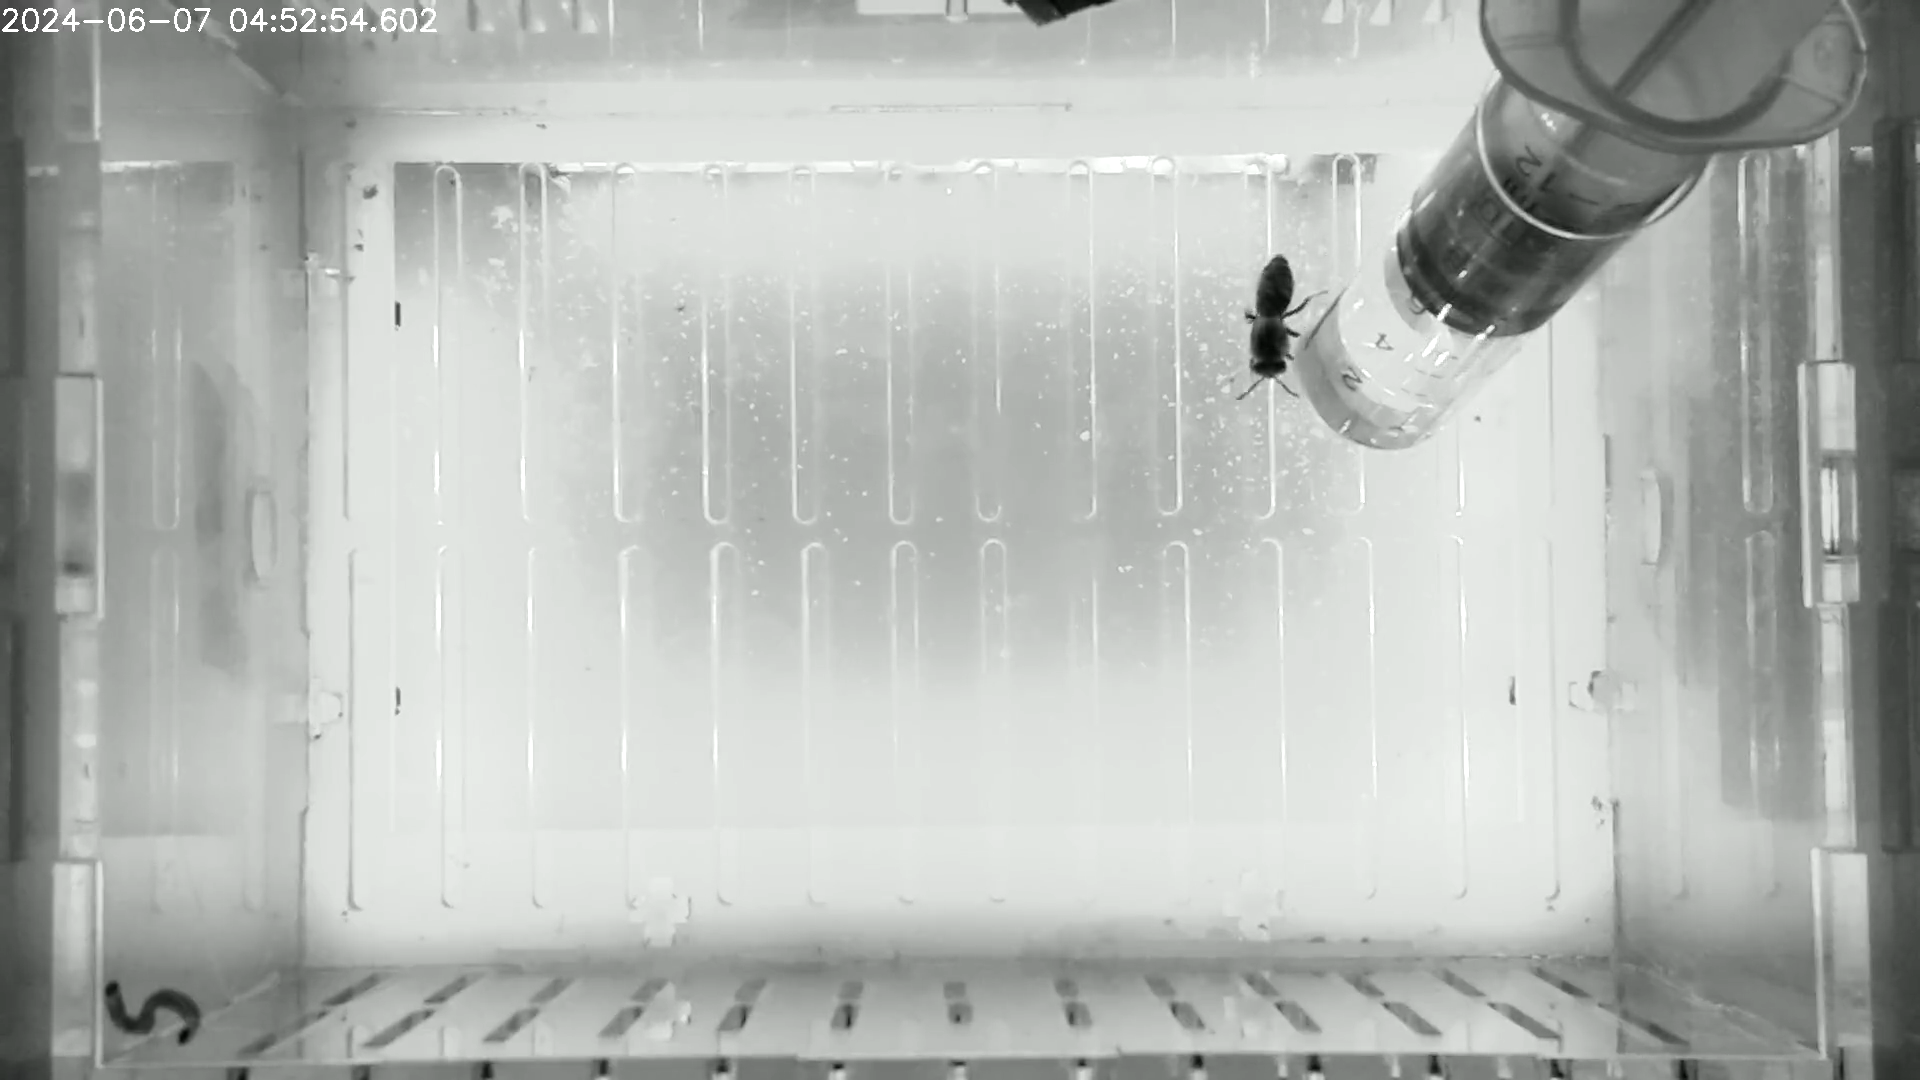bee: (1217, 247, 1329, 404)
feeder: (1290, 107, 1635, 458)
